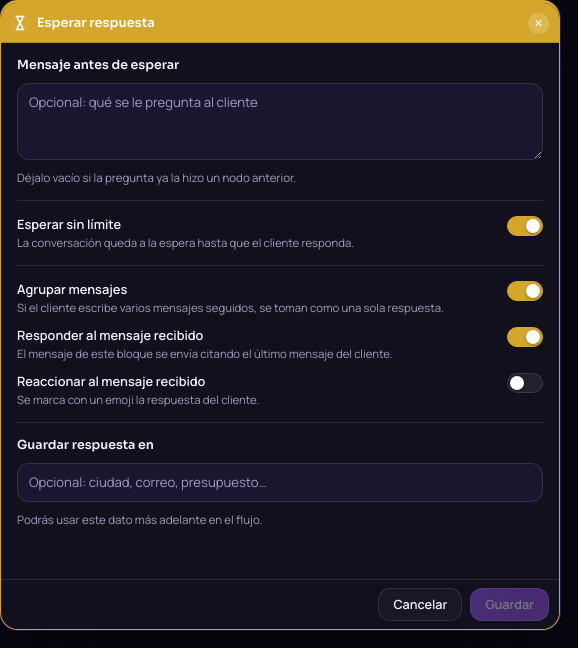
Guardar › no guarda una configuración contradictoria: avisa y no cierra
Type "algo, para que haya cambios que guardar" into the text box labelled "Mensaje antes de esperar" at {"x": 280, "y": 122}, box [17,83,543,160]
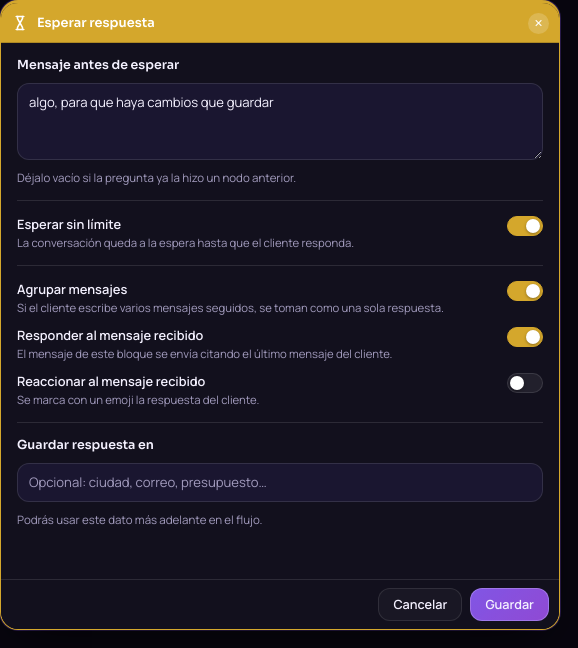
Click the button "Guardar" at {"x": 510, "y": 604}, box [470,588,549,621]
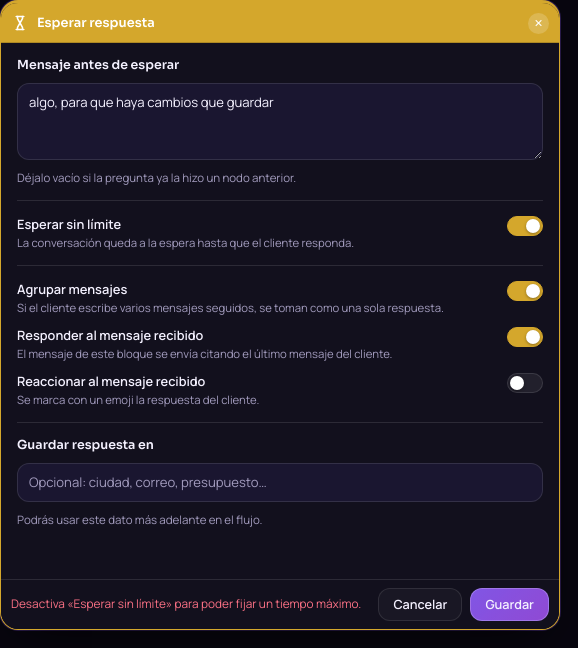
Now the message shows "Esperar sin límite", box [11,595,361,612]
